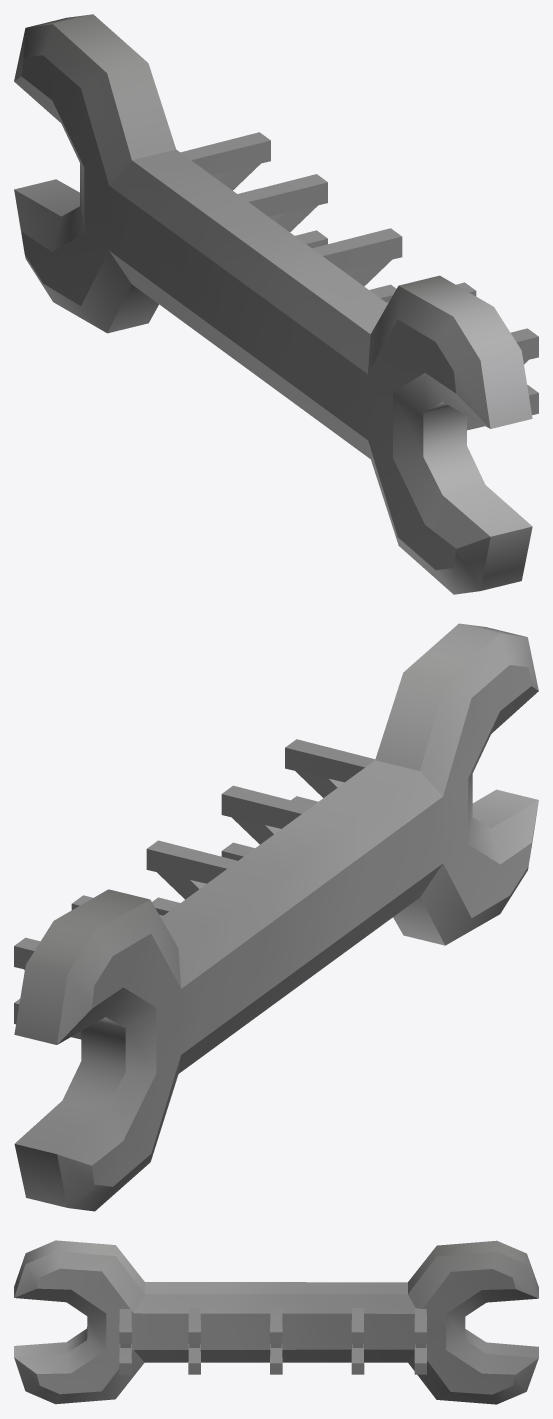
Rendered from FlatWrenchSign_2_A.fbx.
3 renders of one model, top to bottom at view 1: azimuth 30°, elevation 25°; view 2: azimuth 150°, elevation 25°; view 3: azimuth 270°, elevation 25°, orthographic. The views are drawn at different scales.
Parts seen in each view (by area): view 1: FlatWrenchSign_2_A; view 2: FlatWrenchSign_2_A; view 3: FlatWrenchSign_2_A.
Part boxes in pixels (x1=…): FlatWrenchSign_2_A: x1=14, y1=14, x2=538, y2=594; FlatWrenchSign_2_A: x1=14, y1=623, x2=538, y2=1211; FlatWrenchSign_2_A: x1=14, y1=1240, x2=538, y2=1404.
Bounding box in the file's own units: 76.66 × 129 × 401.
